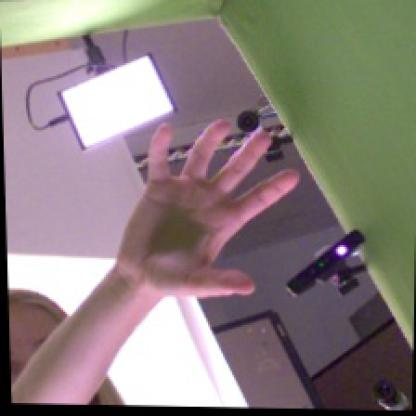Hand: (115, 116, 299, 298)
